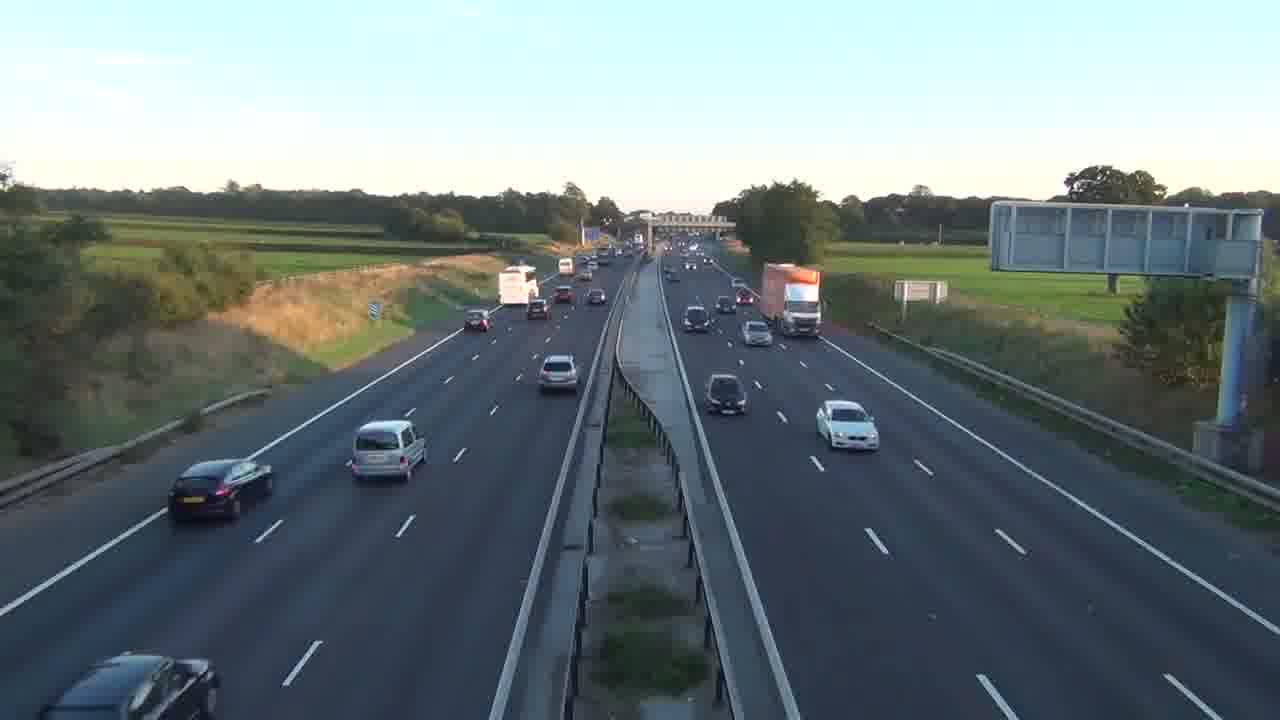car: (37, 652, 222, 718), (167, 458, 274, 523), (349, 418, 429, 481), (815, 399, 880, 452), (703, 372, 748, 415), (538, 354, 578, 391), (742, 319, 772, 347), (586, 288, 606, 306)
truck: (760, 262, 821, 337)
